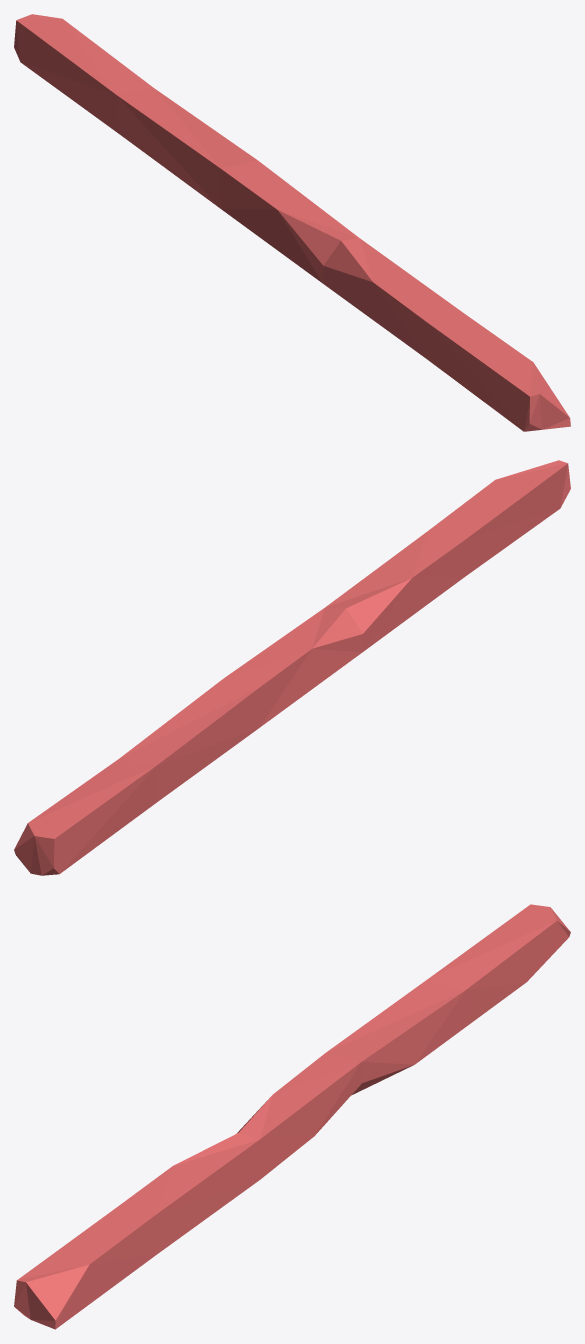
Rendered from SFFA_Rod_001.fbx.
The picture shows the model from 3 angles, top to bottom: view 1: azimuth 30°, elevation 25°; view 2: azimuth 150°, elevation 25°; view 3: azimuth 330°, elevation 25°; orthographic projection.
Visible parts, largest first — view 1: SFFA_Rod_001; view 2: SFFA_Rod_001; view 3: SFFA_Rod_001.
Boxes of the visible parts, x1,y1,x2,y2 form: SFFA_Rod_001: [14, 14, 570, 431]; SFFA_Rod_001: [14, 460, 570, 875]; SFFA_Rod_001: [14, 904, 570, 1329].
Size of the model in its own units: 4.76 by 4.61 by 103.
